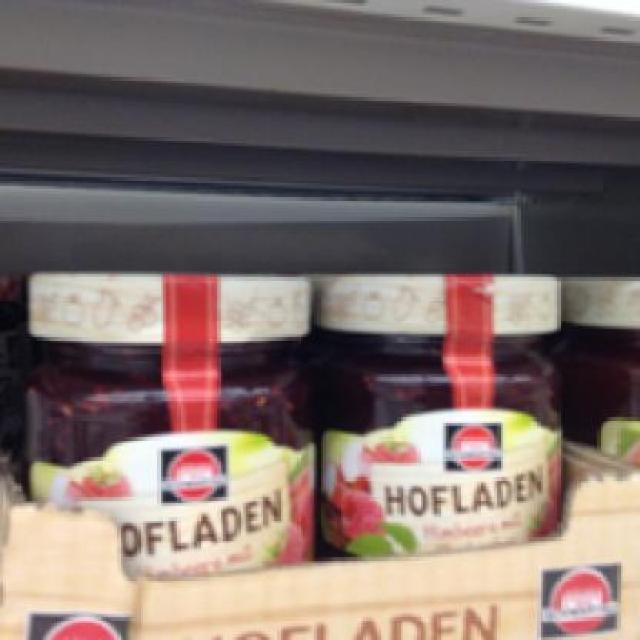Jam: (17, 266, 317, 574), (314, 272, 563, 558)
